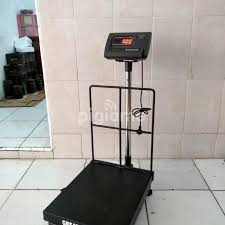Industrial Scale: (40, 30, 156, 225)
